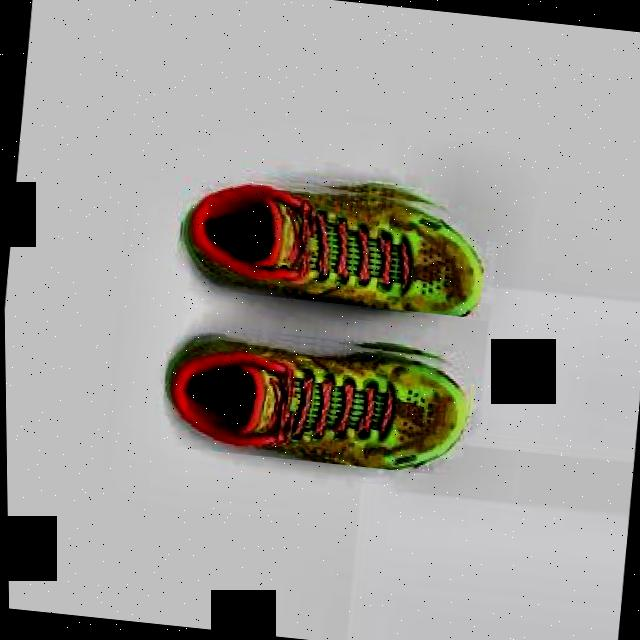shoe: (156, 318, 476, 477), (172, 165, 491, 318)
